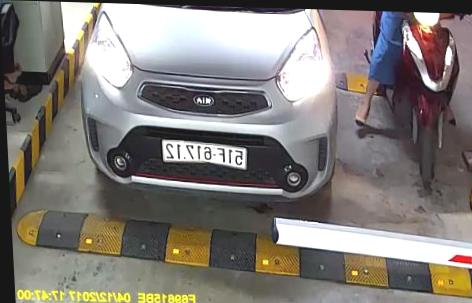License_Plate: (161, 140, 249, 168)
